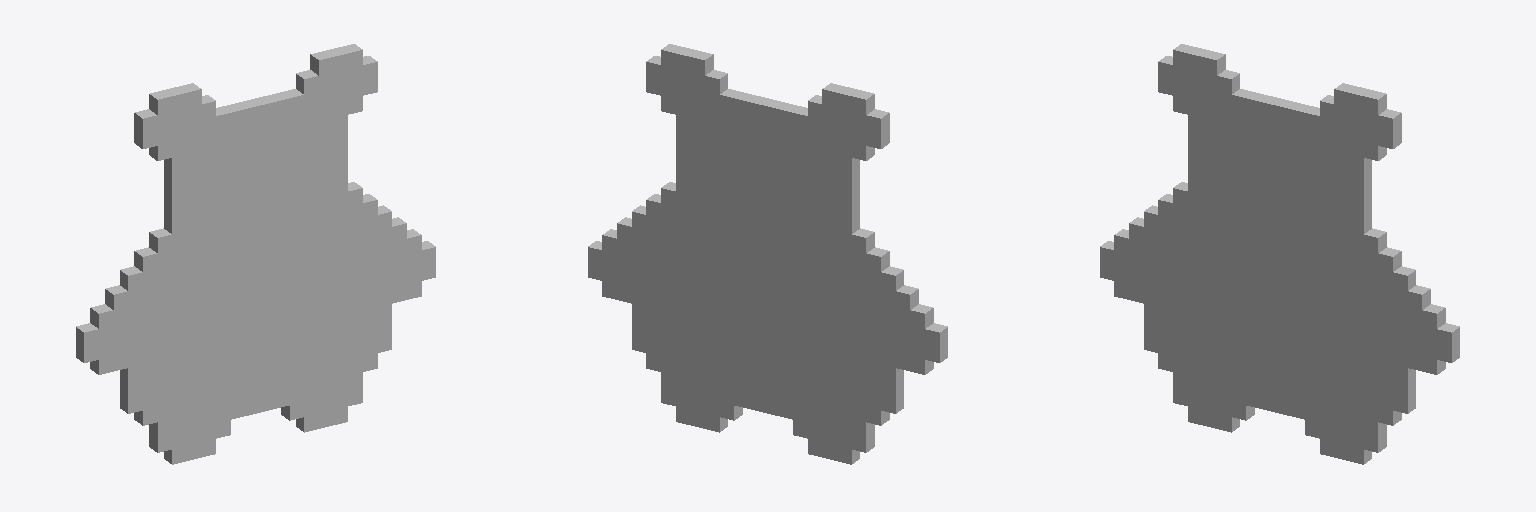
Rendered from миша шаг1.obj.
3 renders of one model, left to right at view 1: azimuth 30°, elevation 25°; view 2: azimuth 150°, elevation 25°; view 3: azimuth 330°, elevation 25°, orthographic.
Parts seen in each view (by area): view 1: object 1; view 2: object 1; view 3: object 1.
Boxes of the visible parts, x1=… form: object 1: x1=76, y1=44, x2=435, y2=464; object 1: x1=588, y1=44, x2=947, y2=464; object 1: x1=1100, y1=44, x2=1459, y2=464.
Size of the model in its own units: 2.4 by 2.4 by 0.1.